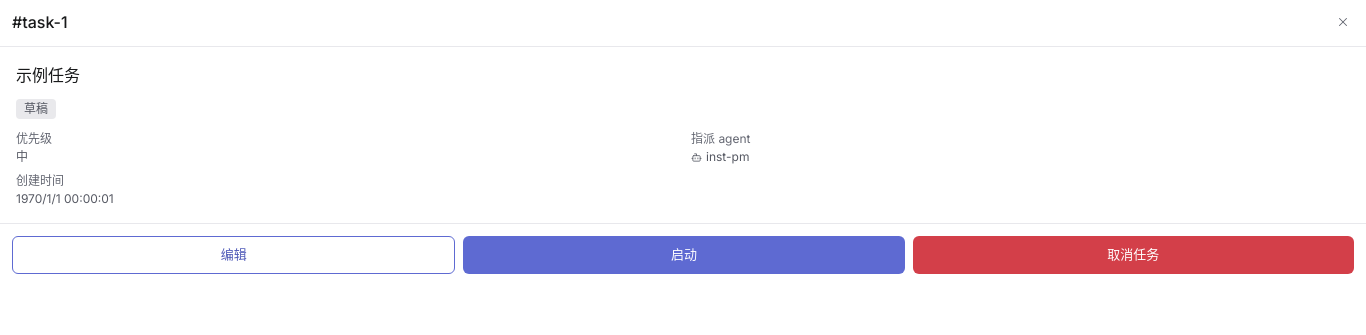
TaskDetailPanel 操作矩阵（K6） › 启动失败 → 显示错误条（不静默吞异常）
Click the button "启动". click: (684, 255)
box: [463,236,905,274]
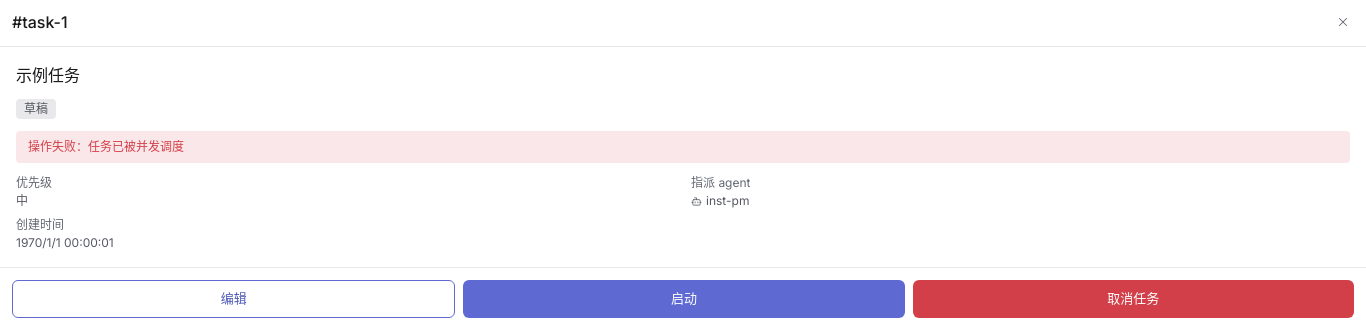
expect the text "操作失败：任务已被并发调度" is shown: met, box [16,131,1350,163]
